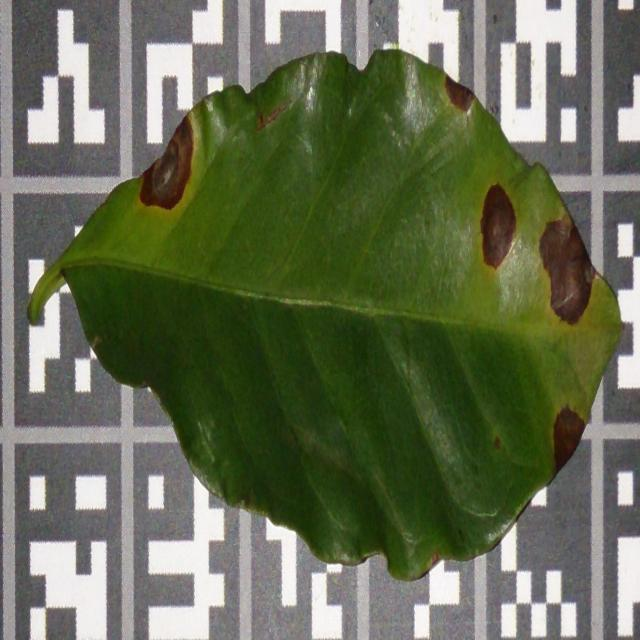Enfermedad-Mancha-de-hierro: (27, 47, 619, 584)
